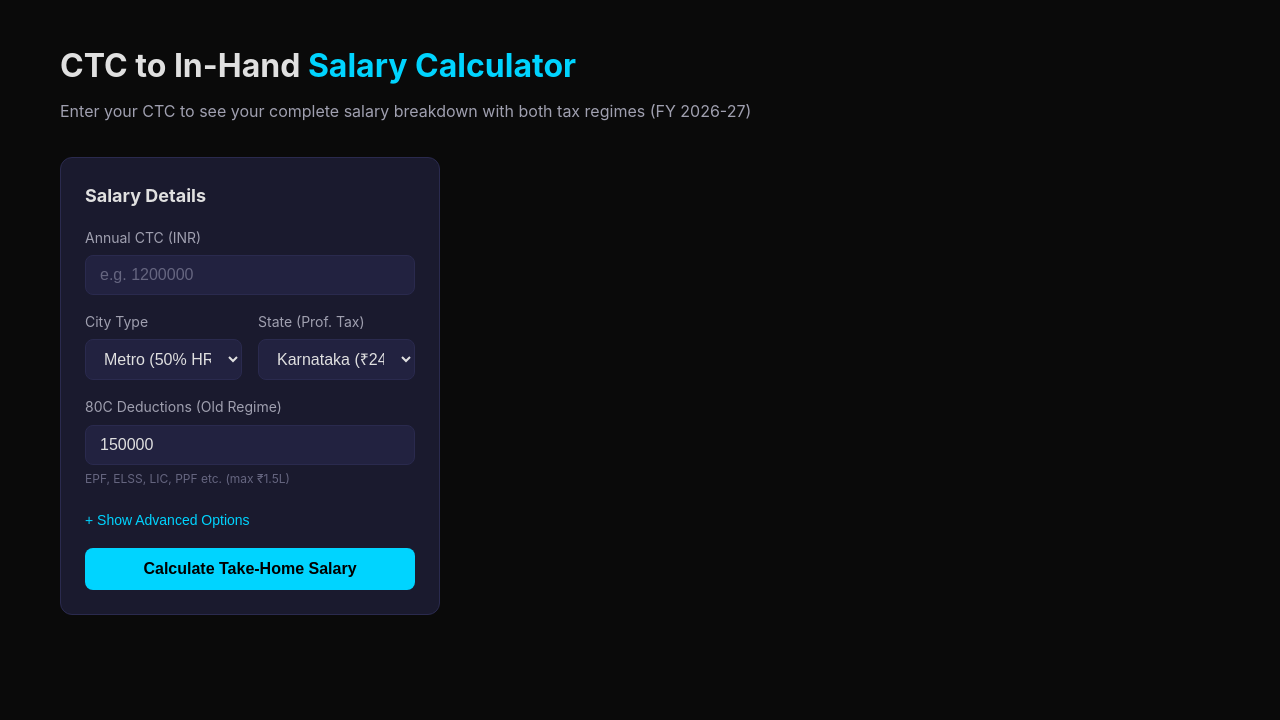
Test case: CalculatorPage › shows savings banner with better regime
The width and height of the screenshot is (1280, 720).
Type "2000000" into the number field labelled "Annual CTC (INR)" at (250, 275), box [85,255,415,295]
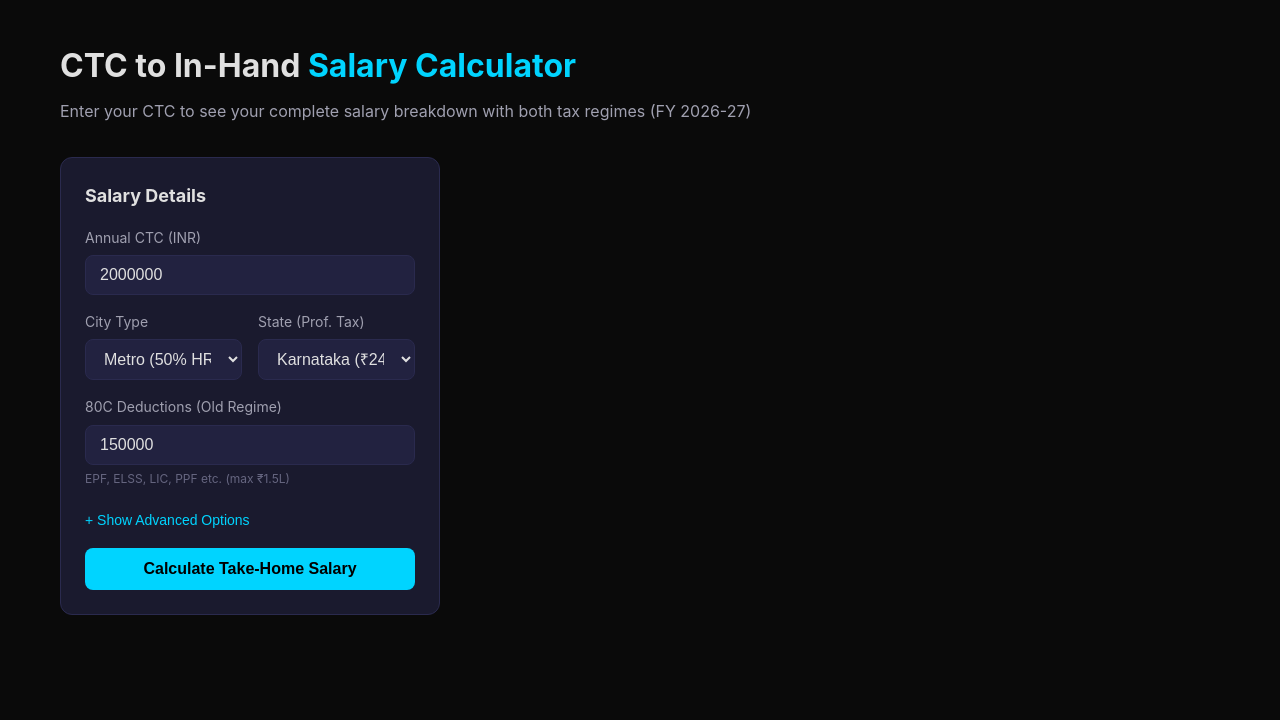
Click the button "Calculate Take-Home Salary" at (250, 569), box [85,548,415,590]
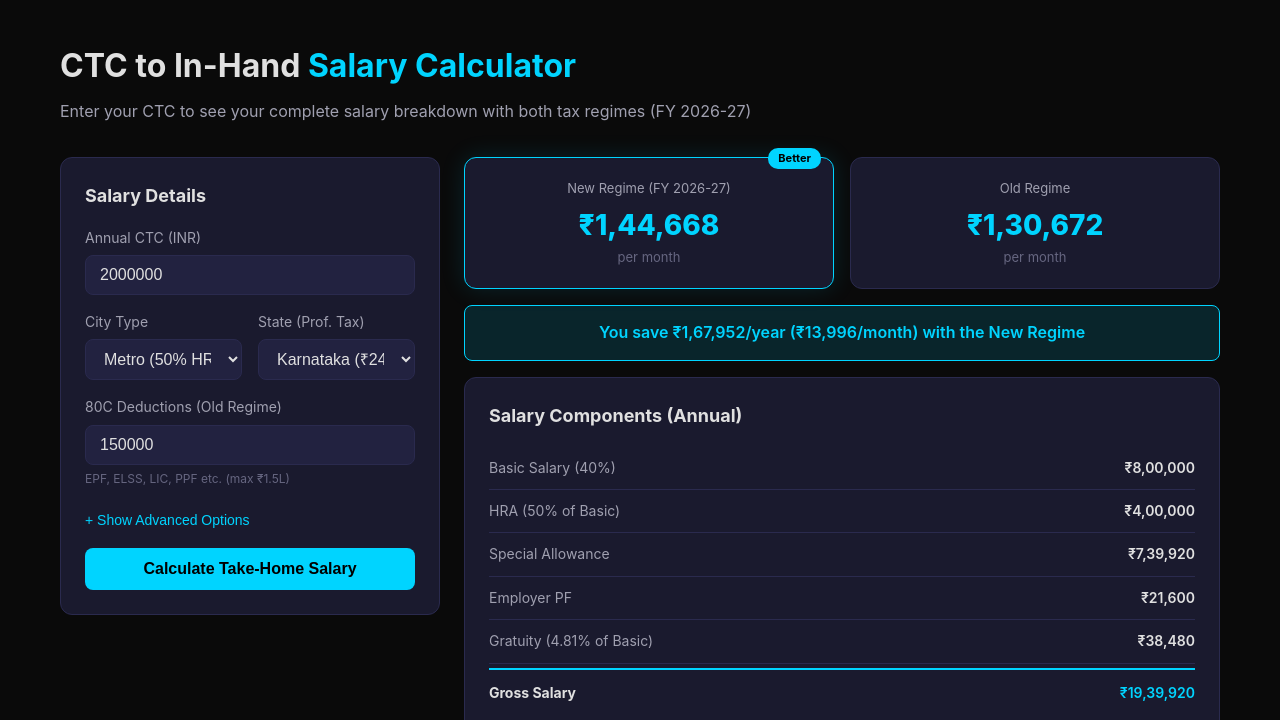
Check: the text "You save ₹1,67,952/year (₹13,996/month) with the New Regime" is shown, box [464,305,1220,361]
